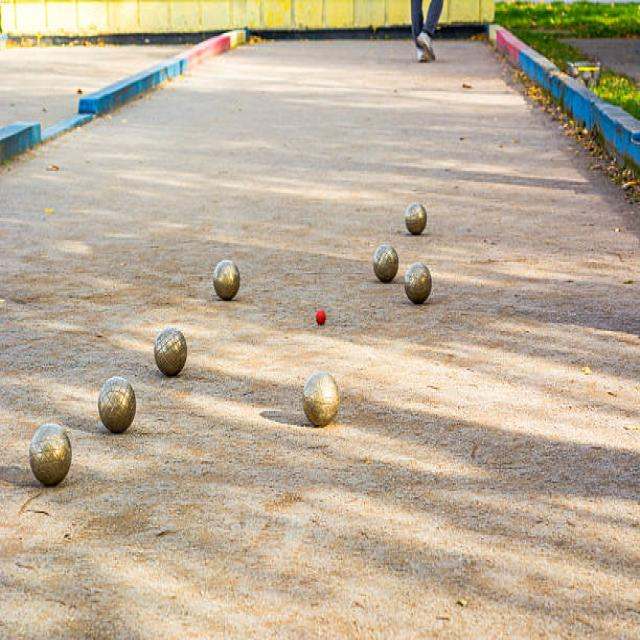hatball: (311, 307, 330, 331)
petanque: (294, 366, 346, 438), (28, 423, 75, 492), (95, 371, 140, 435), (153, 315, 192, 379), (207, 253, 244, 308), (399, 260, 437, 311), (370, 235, 404, 289), (402, 196, 430, 244)
